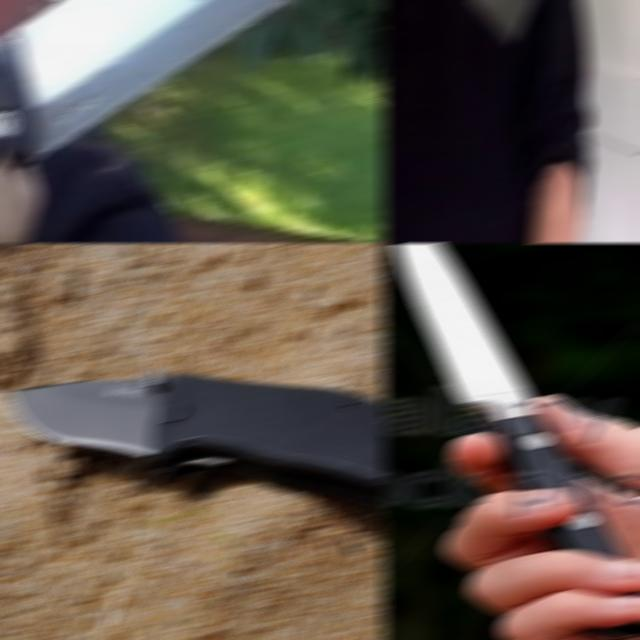Knife: (392, 244, 626, 557), (0, 0, 288, 168)
